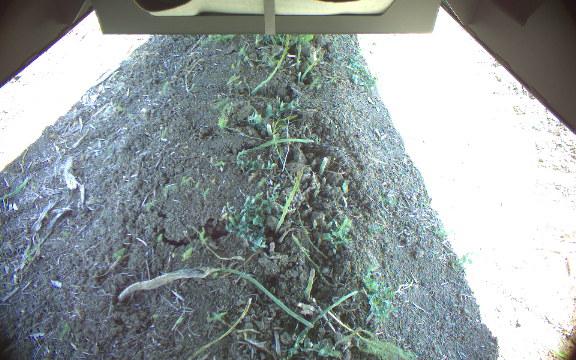aspa: (250, 34, 291, 98), (301, 57, 322, 83), (303, 269, 316, 301), (294, 43, 302, 71), (297, 71, 301, 85)
